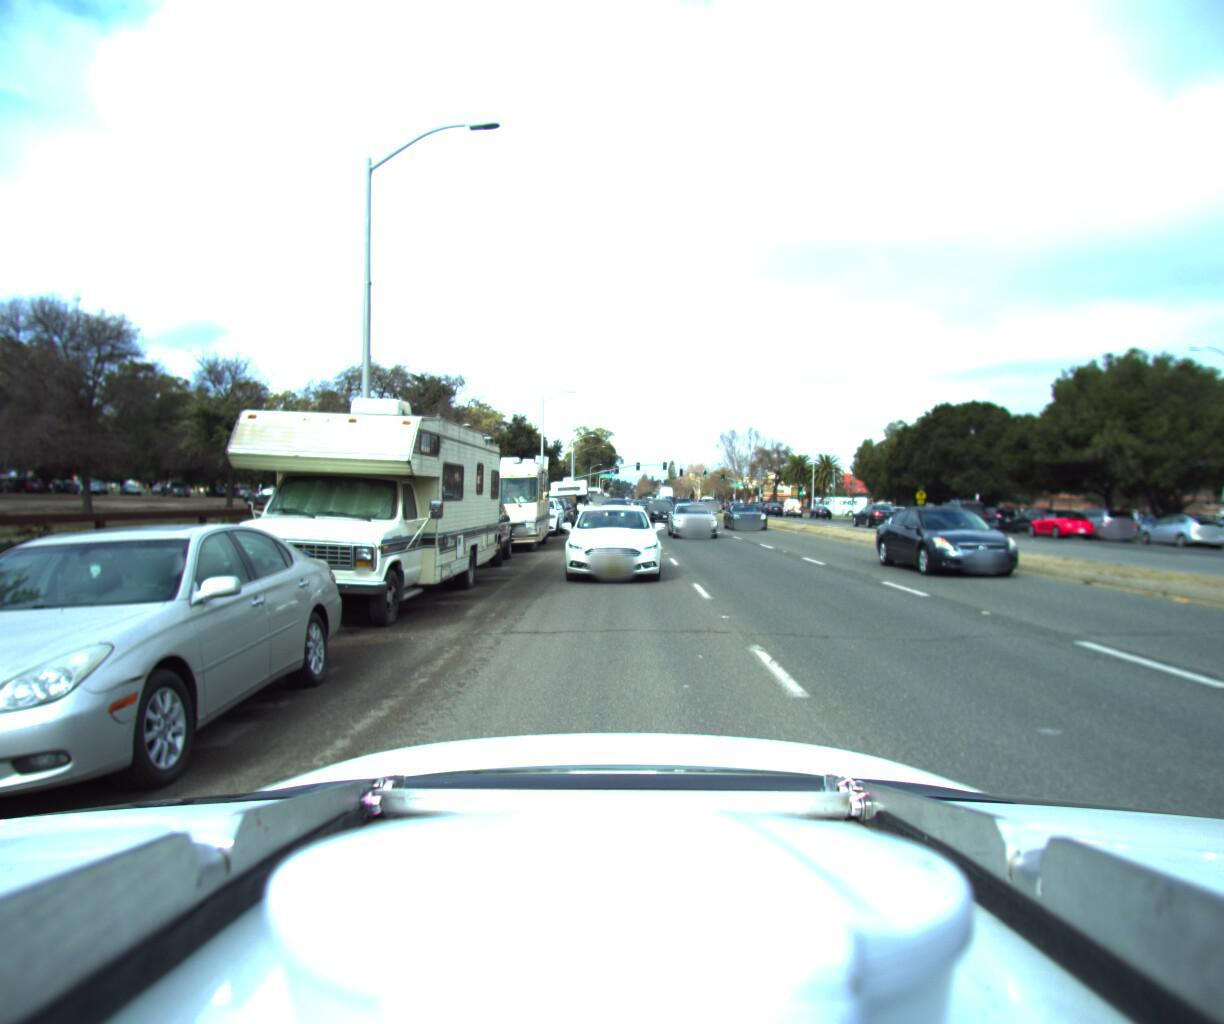car: (884, 495, 1064, 581), (560, 487, 663, 581), (415, 489, 512, 567), (1133, 503, 1224, 543), (1054, 498, 1142, 536), (1011, 498, 1091, 535), (663, 494, 722, 535), (916, 491, 983, 527), (517, 489, 565, 533), (530, 481, 579, 522), (528, 489, 572, 526), (724, 494, 773, 526), (962, 497, 1018, 525), (843, 497, 896, 522), (646, 492, 679, 518), (866, 499, 907, 520)
other_vehicle: (172, 365, 510, 629), (446, 434, 552, 555), (540, 469, 594, 516)
